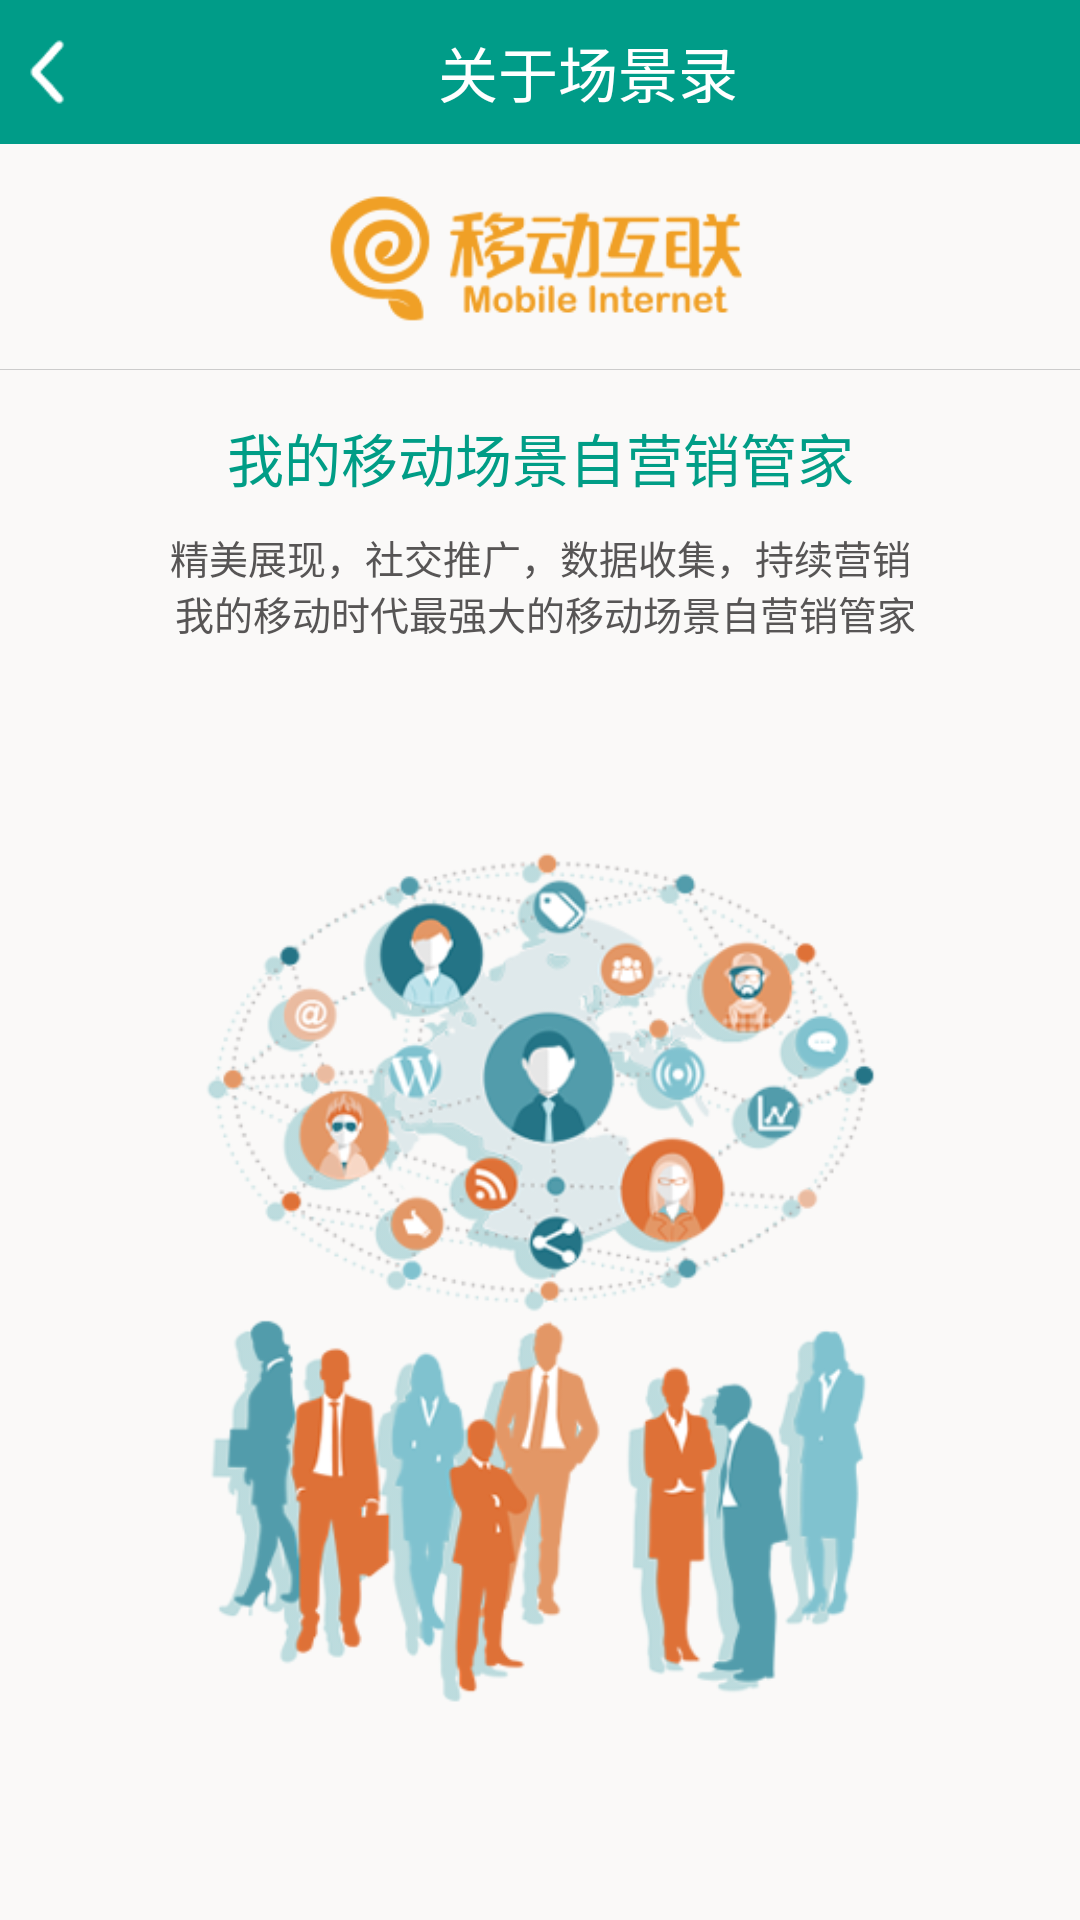

Named icons in this screenshot (1080px x 1920px) and their centers, (x=x, y=y):
back arrow: (x=47, y=72)
